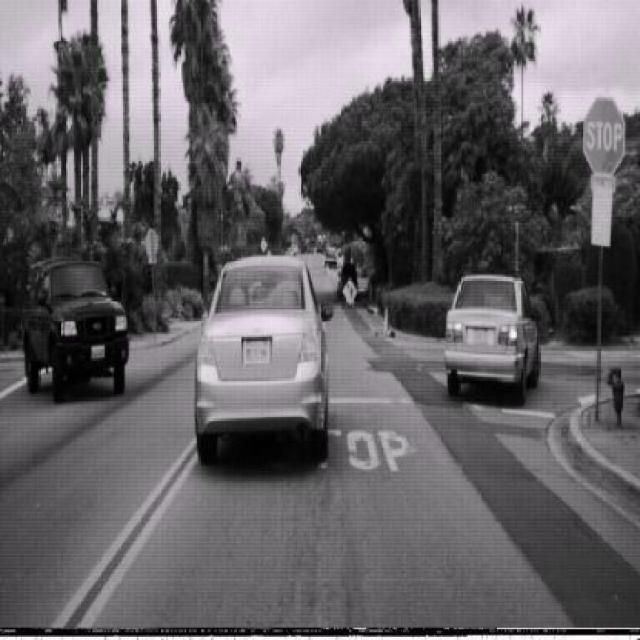stop: (583, 95, 625, 178)
